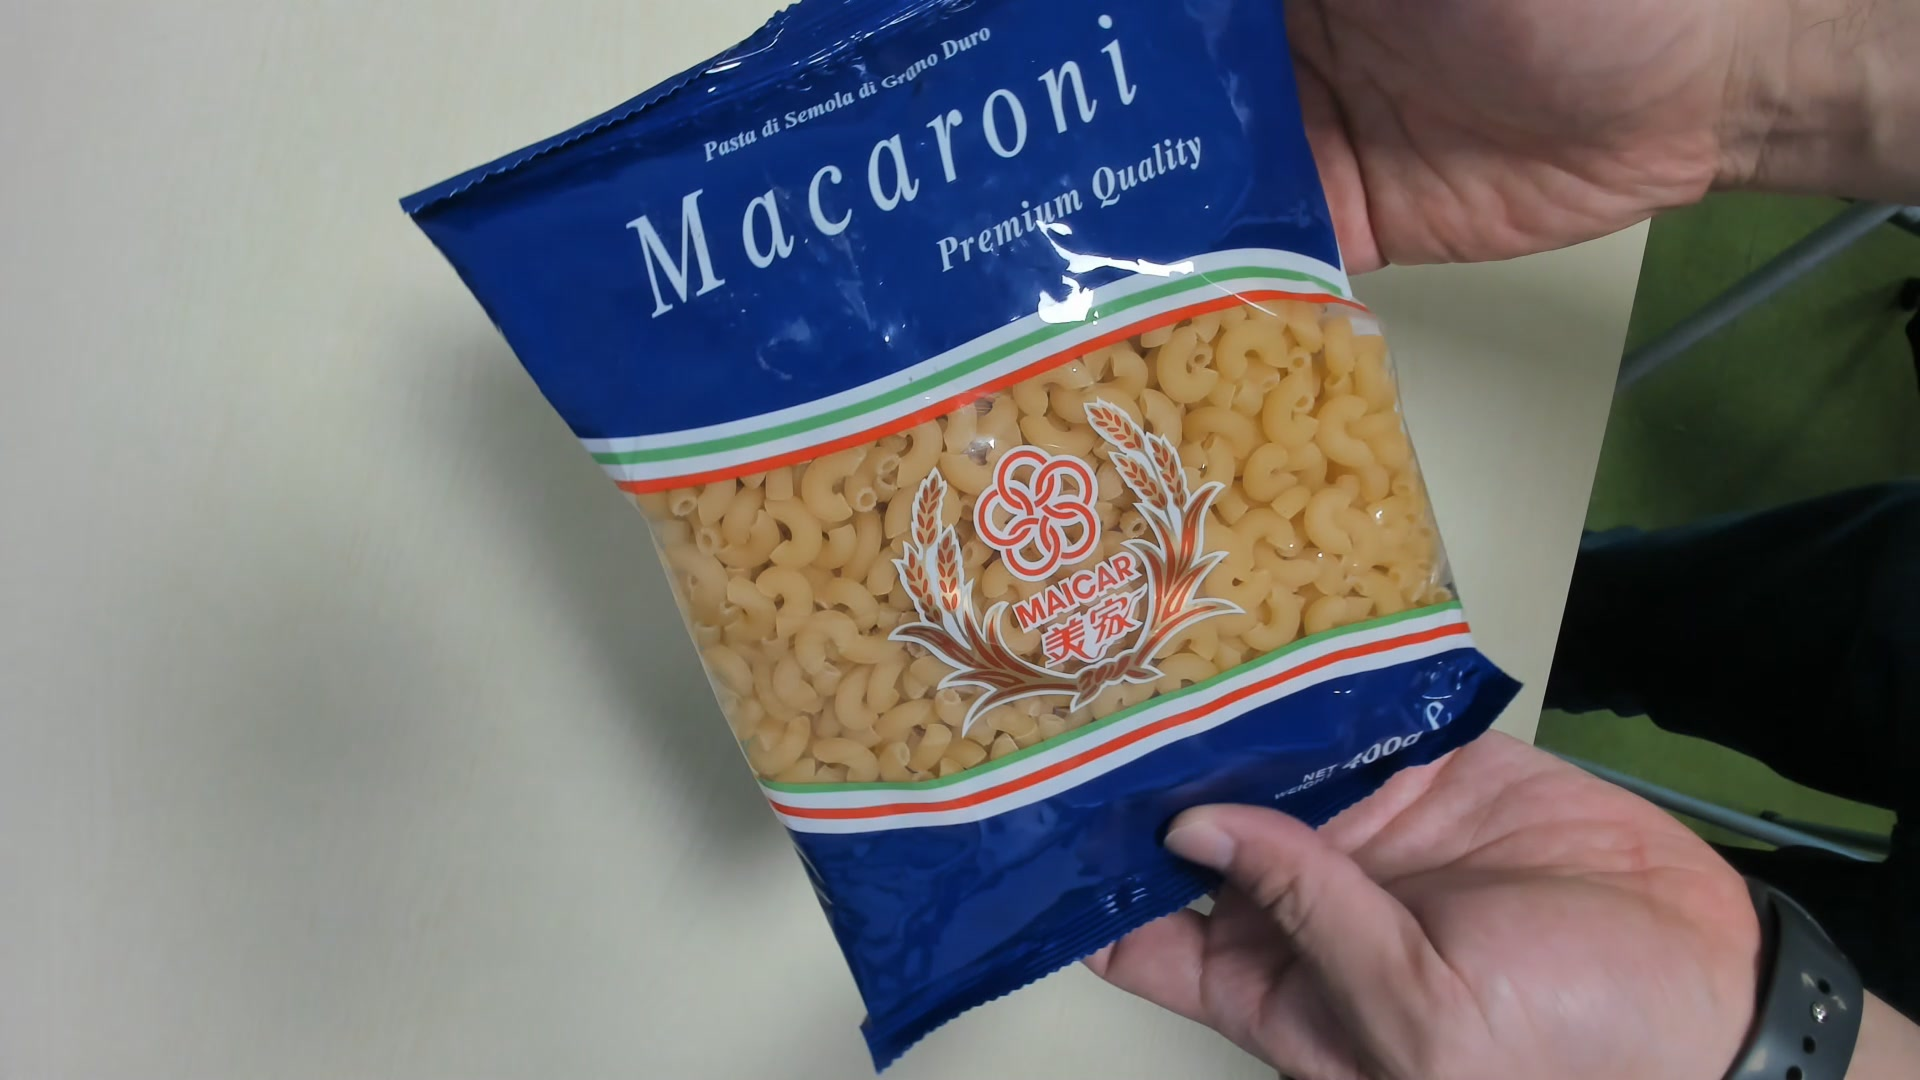Pasta_400-499g_Halal_NonHealthy: (381, 7, 1505, 1068)
